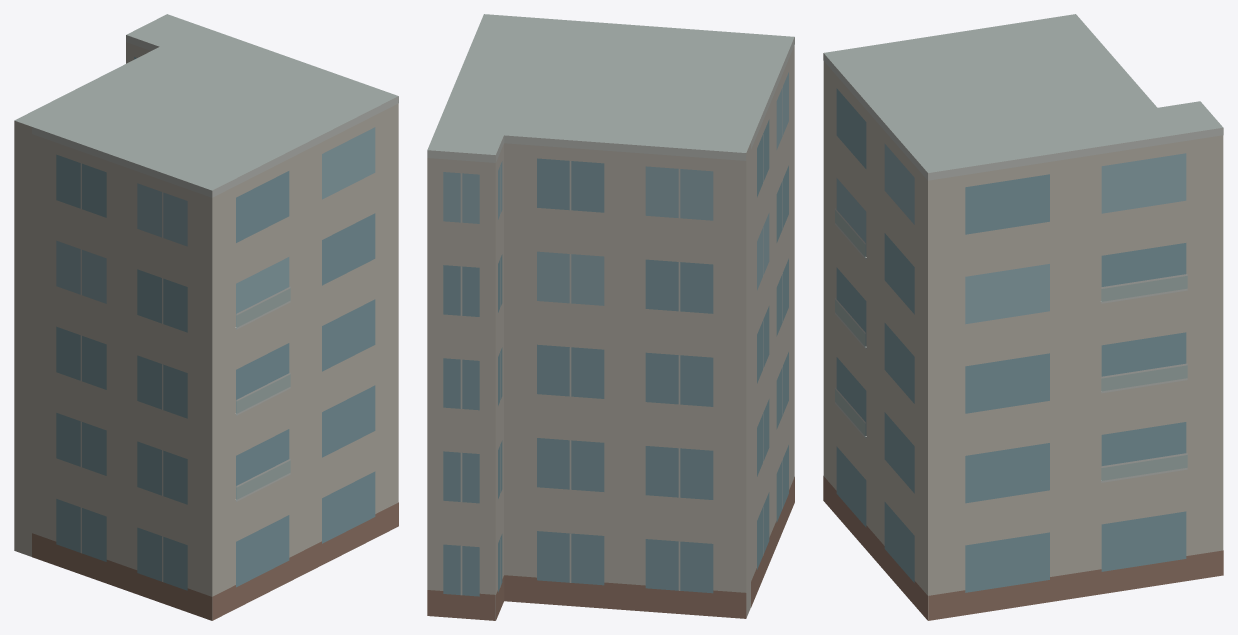
The model's file is survey-upis-33010540.glb.
3 renders of one model, left to right at view 1: azimuth 30°, elevation 25°; view 2: azimuth 150°, elevation 25°; view 3: azimuth 270°, elevation 25°, orthographic. The views are drawn at different scales.
Parts seen in each view (by area): view 1: survey-upis-33010540.tmp; view 2: survey-upis-33010540.tmp; view 3: survey-upis-33010540.tmp.
Boxes of the visible parts, x1,y1,x2,y2 form: survey-upis-33010540.tmp: [14, 14, 398, 620]; survey-upis-33010540.tmp: [427, 14, 794, 620]; survey-upis-33010540.tmp: [823, 14, 1223, 620].
Bounding box in the file's own units: 11.06 × 14.5 × 11.75.
